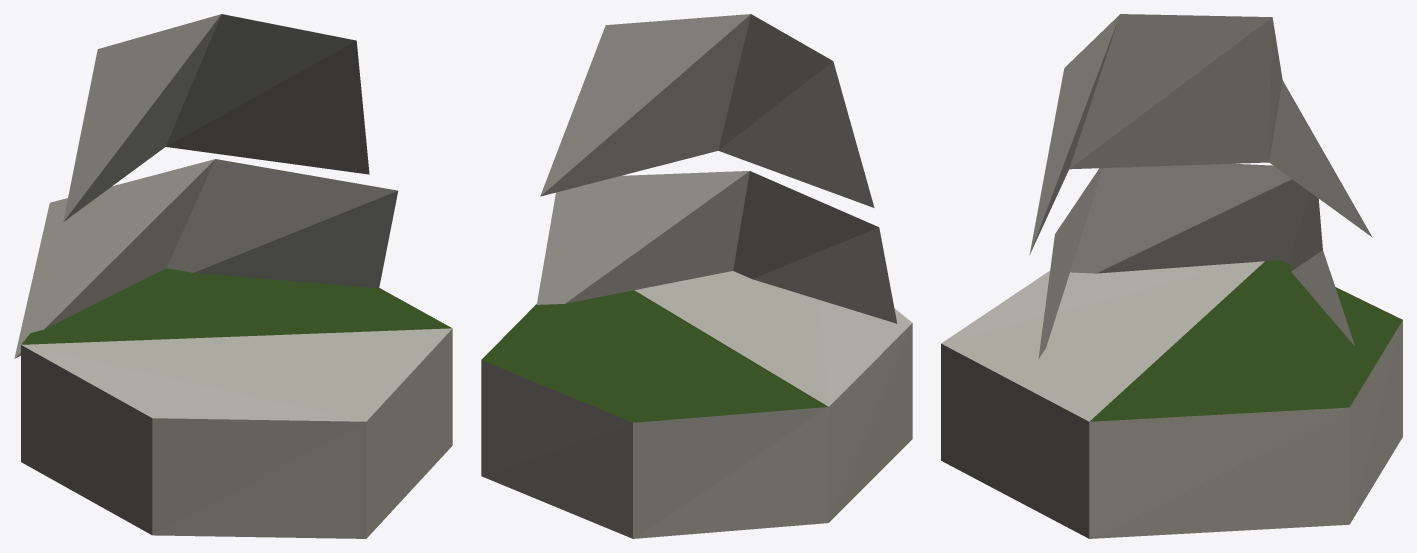
The model's file is rock.stub__outcrop__autumn.glb.
3 views of the same model, side by side, from view 1: azimuth 30°, elevation 25°; view 2: azimuth 150°, elevation 25°; view 3: azimuth 270°, elevation 25° (orthographic).
Visible parts, largest first — view 1: rock.stub; view 2: rock.stub; view 3: rock.stub.
Part boxes in pixels (x1,y1,x2,y2): rock.stub: (14,14,452,538); rock.stub: (481,14,912,538); rock.stub: (941,14,1402,538).
Bounding box in the file's own units: 1.16 × 1.28 × 1.37.
